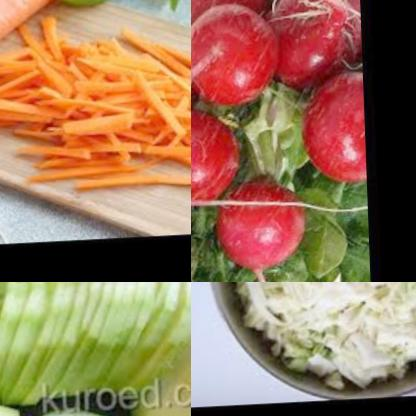cabbage: (214, 282, 416, 394)
carrot: (0, 18, 191, 214), (0, 0, 85, 129)
rediska: (191, 2, 278, 107), (213, 181, 305, 278), (268, 0, 359, 92), (294, 73, 364, 186), (191, 103, 235, 214), (191, 0, 264, 41)
vegetable marrow: (0, 282, 191, 416), (0, 282, 191, 336)
